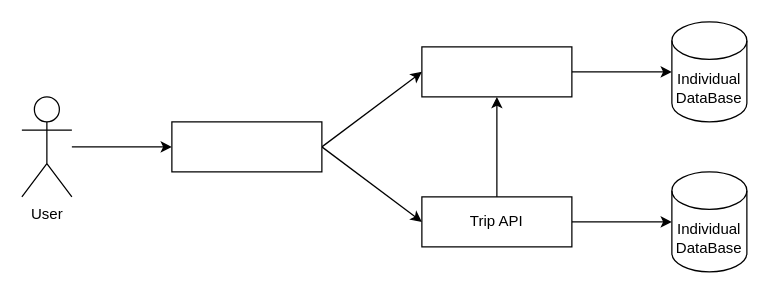
This 769x294 diagram has some shape labels left out. Here are the shapes that lost their labels. From the top down, the centre of each, then its label:
At (496,71): "Network API".
At (246,146): "Web UI".
